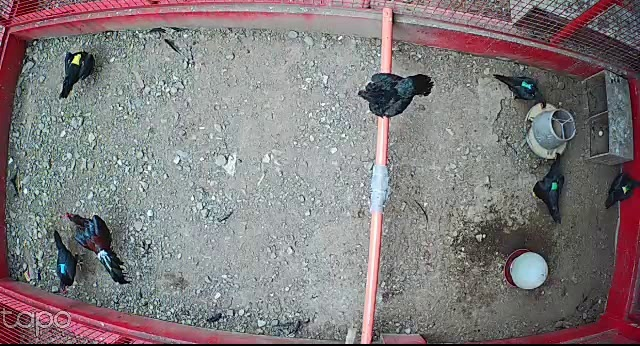Chicken: (356, 70, 438, 119), (530, 150, 574, 224), (492, 69, 548, 111), (52, 229, 86, 296), (58, 47, 93, 100), (604, 166, 640, 215)
Drinker: (504, 248, 548, 291)
Feeder: (522, 98, 574, 162)
Rooster: (65, 209, 132, 286)
Saddle_Color_Blue: (58, 264, 67, 275)
Saddle_Color_Yellow: (70, 53, 83, 65)
Saddle_Color_YellowGreen: (621, 185, 628, 194)
